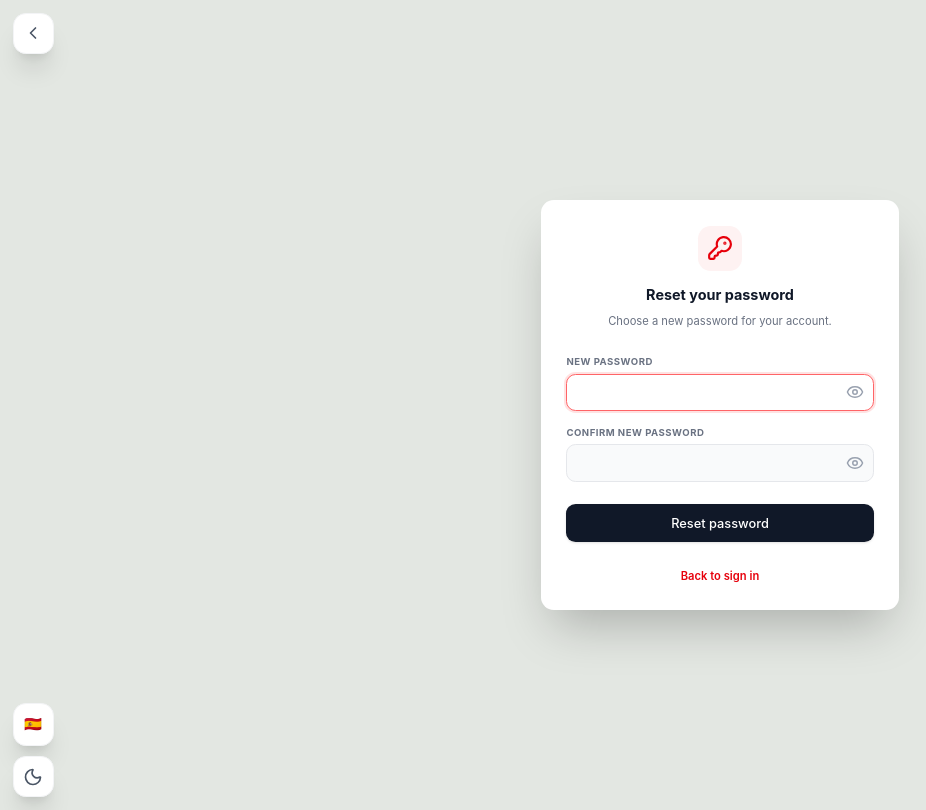
Test: ResetPasswordPage › submits matching passwords and shows the success state
Type "newPassword123" into the password field labelled "New password" at (720, 392), box [566,374,874,411]
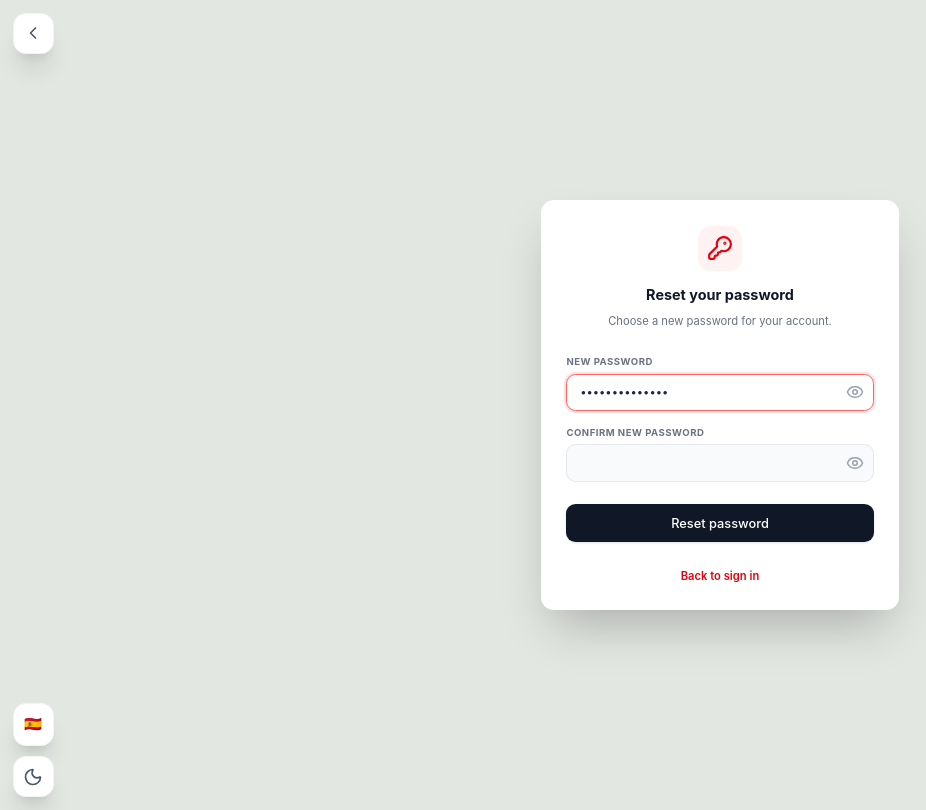
Type "newPassword123" into the password field labelled "Confirm new password" at (720, 463), box [566,444,874,482]
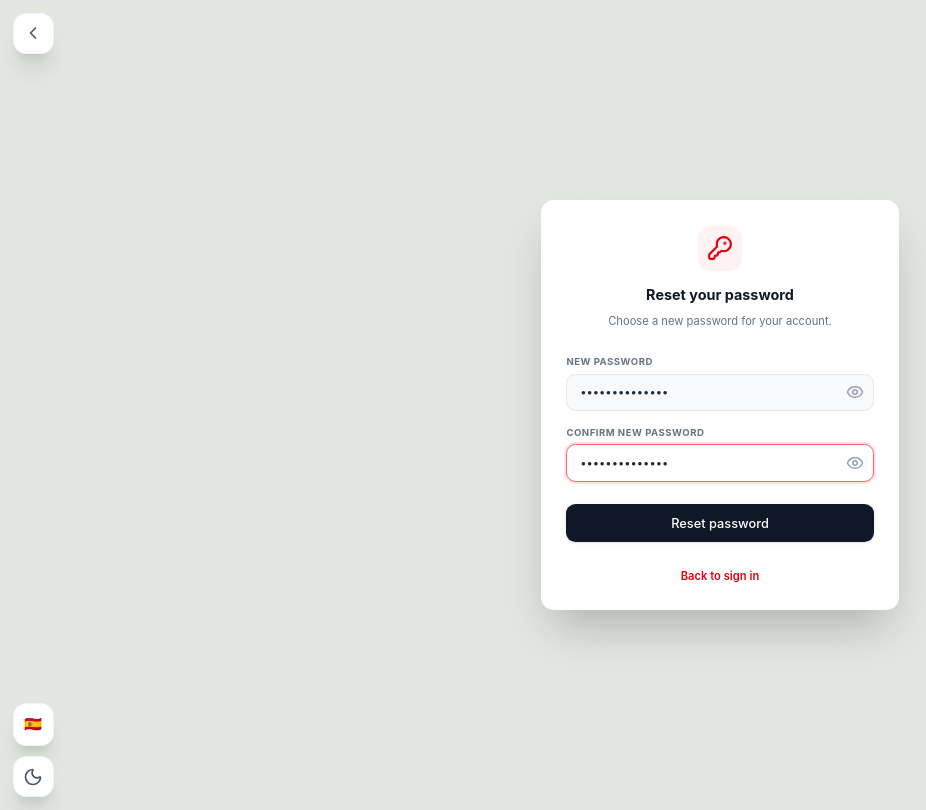
Click the button "Reset password" at (720, 523), box [566,504,874,542]
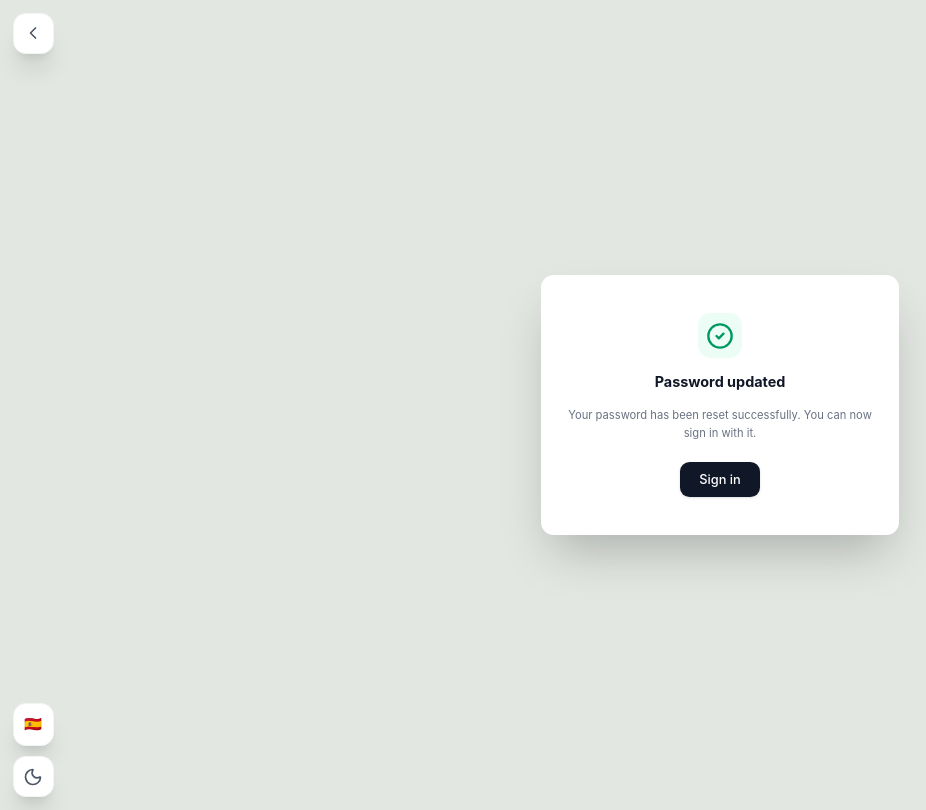
Expected: the heading "Password updated" is shown, [655,371,785,393]
